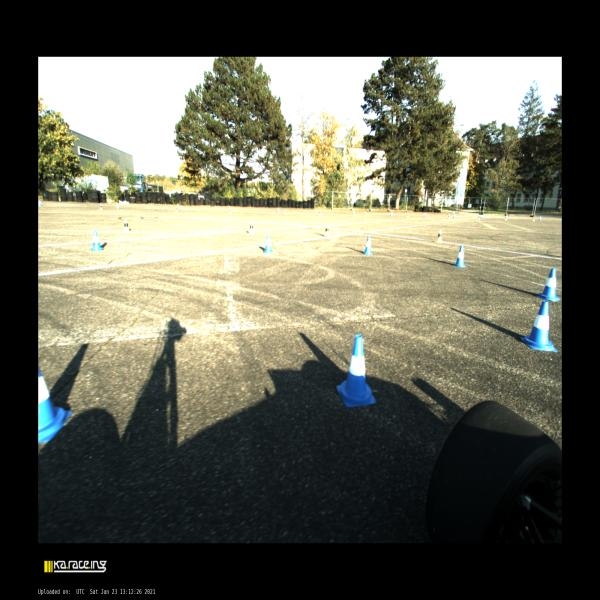blue_cone: (336, 334, 376, 408), (38, 363, 73, 444), (520, 300, 557, 352), (536, 268, 560, 302), (452, 245, 466, 267), (90, 229, 104, 251), (363, 236, 373, 255), (263, 234, 273, 252), (38, 199, 42, 207), (116, 202, 120, 209), (180, 205, 184, 211), (423, 212, 427, 217), (277, 207, 280, 213), (314, 208, 317, 214), (352, 209, 355, 215), (538, 216, 542, 220), (453, 213, 456, 218), (390, 211, 393, 216), (481, 214, 483, 219)
yellow_cone: (435, 229, 443, 243), (123, 218, 130, 233), (323, 224, 330, 238), (248, 221, 254, 235), (228, 206, 232, 216), (99, 202, 103, 210), (363, 211, 367, 216), (175, 206, 178, 212), (284, 208, 287, 214), (318, 210, 321, 216), (532, 216, 535, 221), (406, 213, 409, 218), (448, 214, 450, 219), (478, 215, 480, 220), (505, 216, 507, 220)
